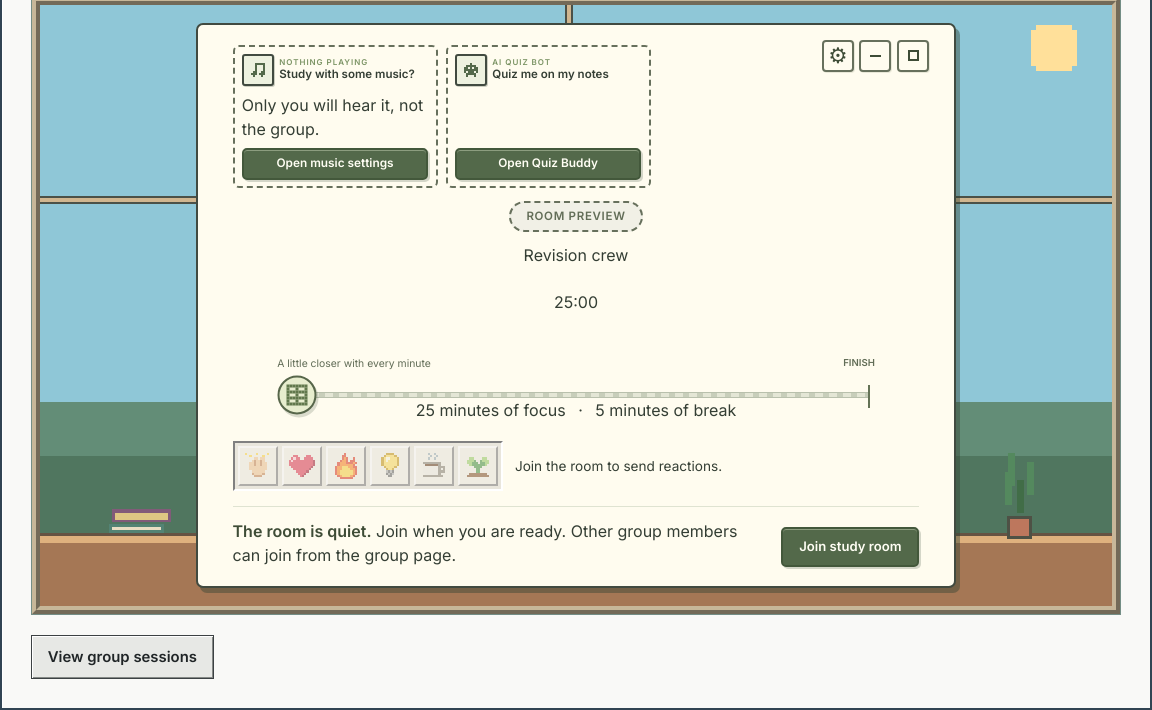
private room screen › switches to preview before mutation refresh can heartbeat a deleted lease
(page scrolled)
Step 1. Click the button "Join study room" → (850, 547), box [781,527,920,567]
(page scrolled)
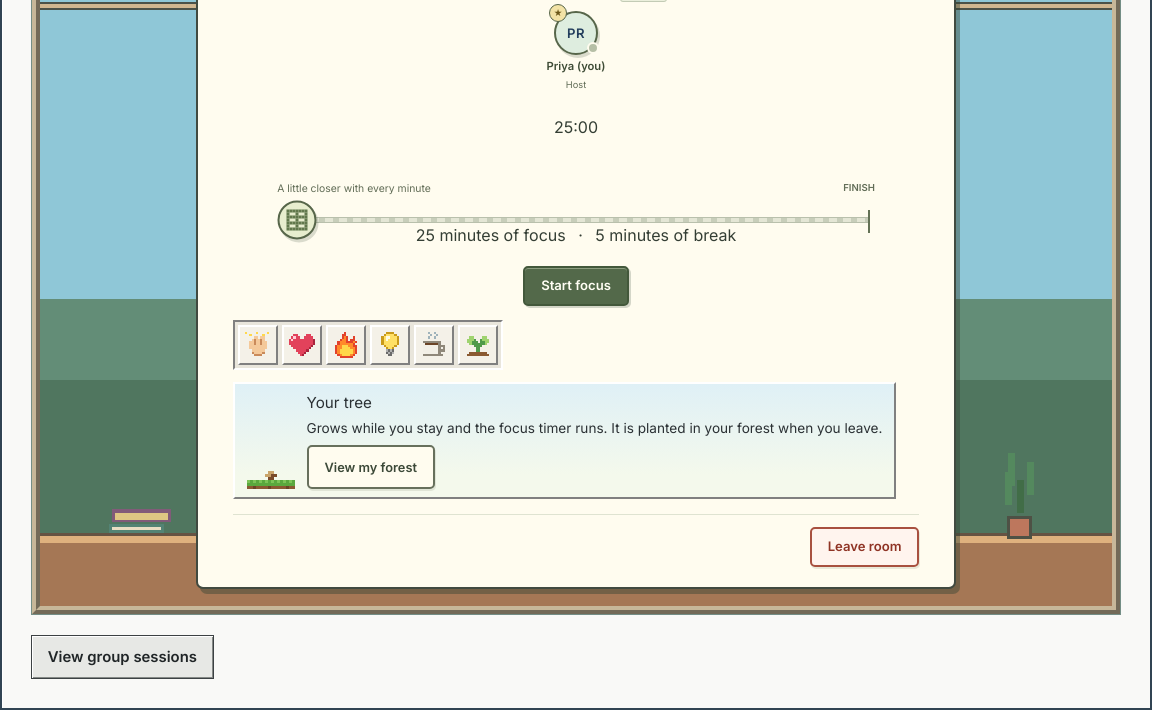
Step 2. Click the button "Leave room" → (865, 547), box [810,527,920,567]
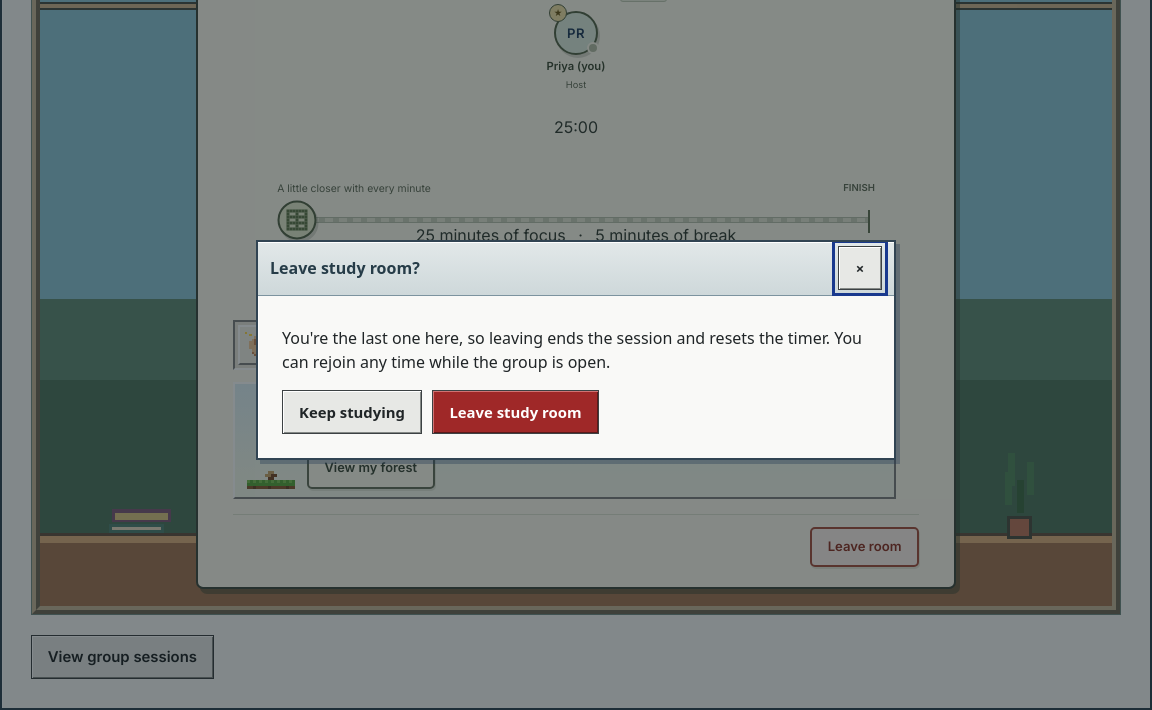
Step 3. Click the button "Leave study room" → (516, 412), box [432,390,599,434]
(page scrolled)
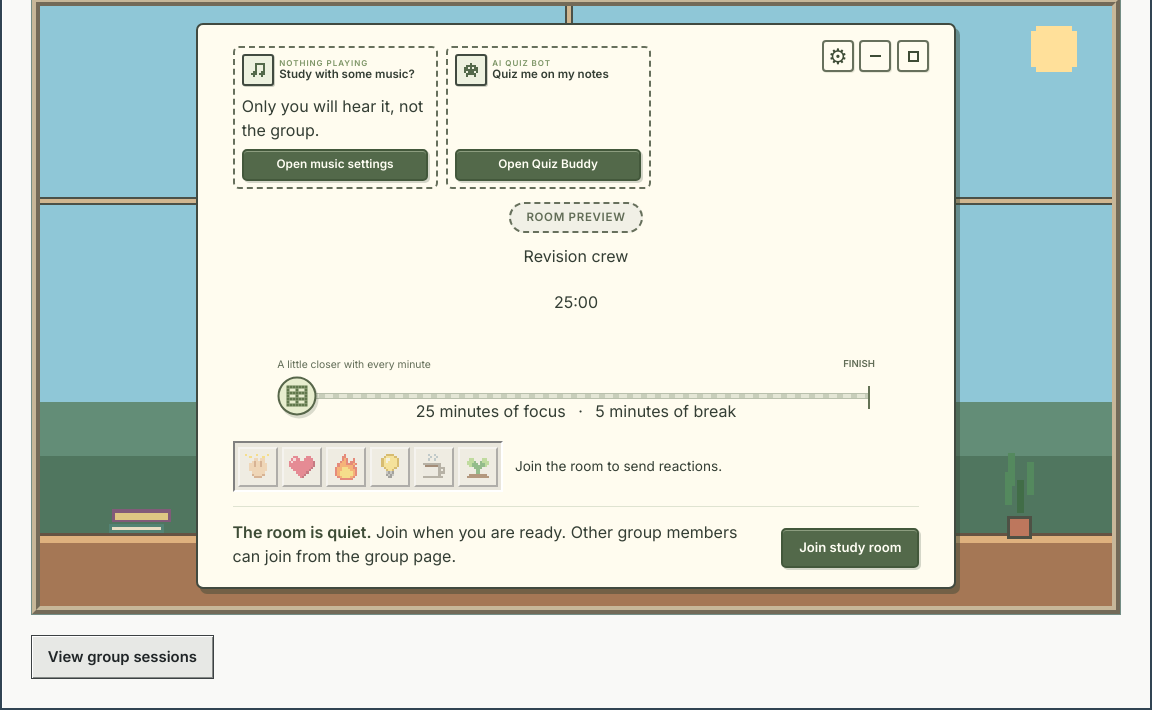
expect the text "25:00" is shown: met, box [554,290,598,314]
expect the button "Join study room" is shown: met, box [781,528,920,568]
